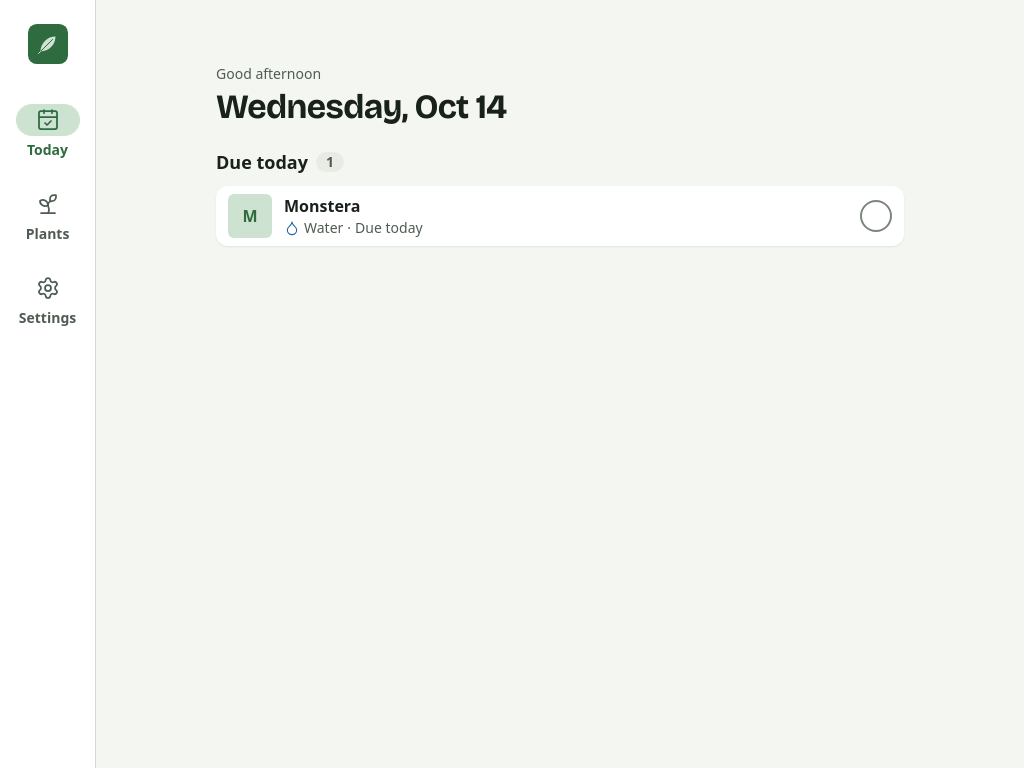
Test: Today › removes a task at once on done, then offers Undo
Expected: the heading "Wednesday, Oct 14" is shown, x1=216 y1=86 x2=506 y2=127
Click the button named "Mark Water Monstera done" at (876, 216), box x1=852 y1=192 x2=900 y2=240
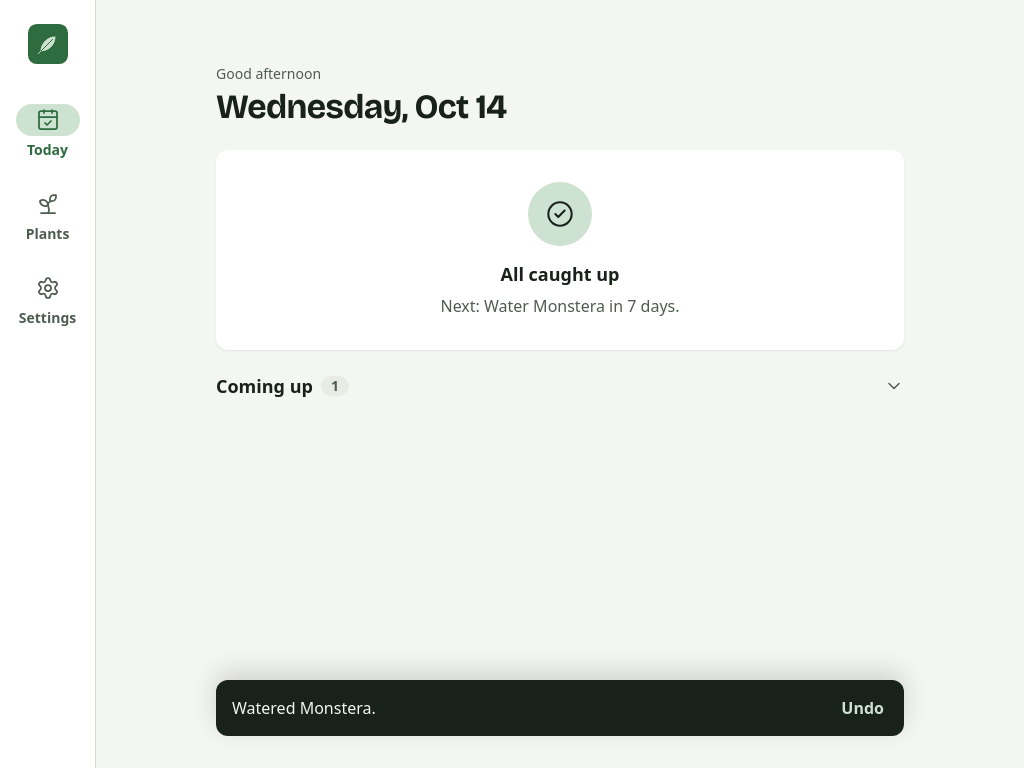
Expected: the text "Watered Monstera." is shown, x1=232 y1=697 x2=376 y2=719
Expected: the heading "All caught up" is shown, x1=500 y1=262 x2=620 y2=286
Expected: the text "Next: Water Monstera in 7 days." is shown, x1=440 y1=294 x2=680 y2=318
Click the button "Undo" at (863, 708), box x1=825 y1=684 x2=900 y2=732
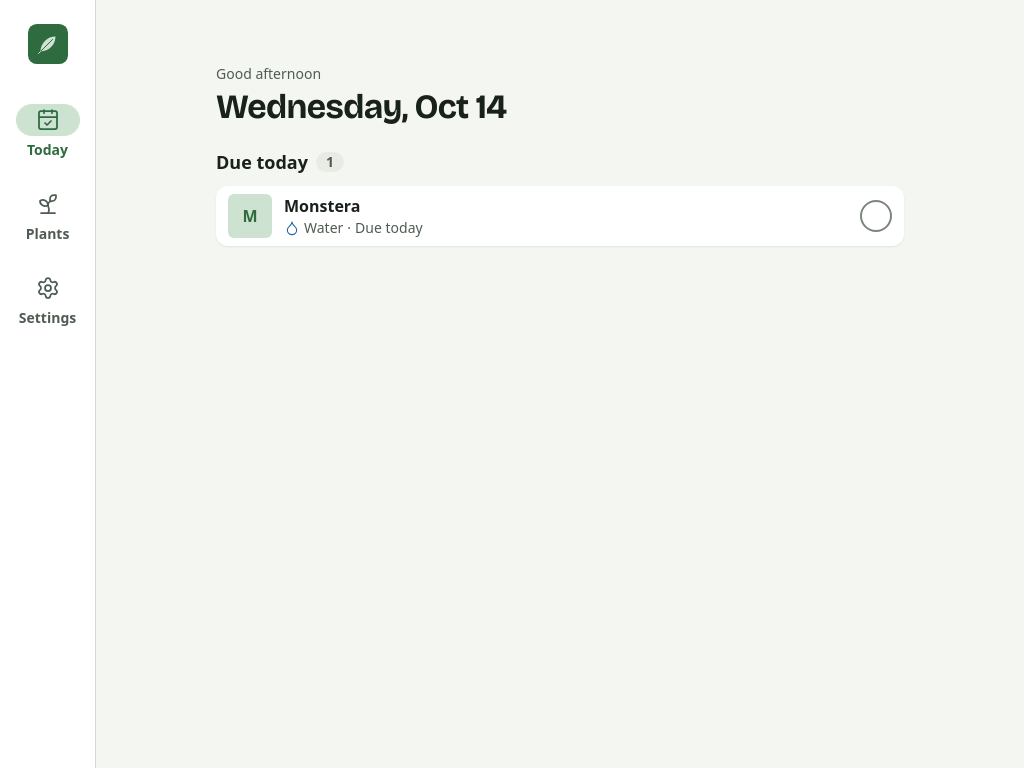
Expected: the button named "Mark Water Monstera done" is shown, x1=852 y1=192 x2=900 y2=240
Expected: the text "Watered Monstera." is gone
